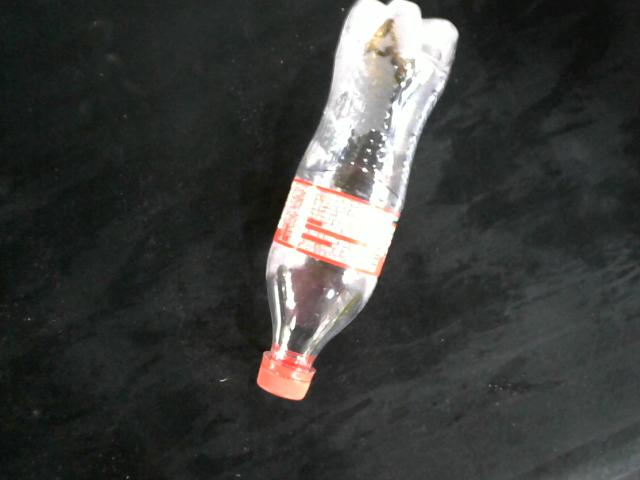bottle: (256, 0, 460, 401)
